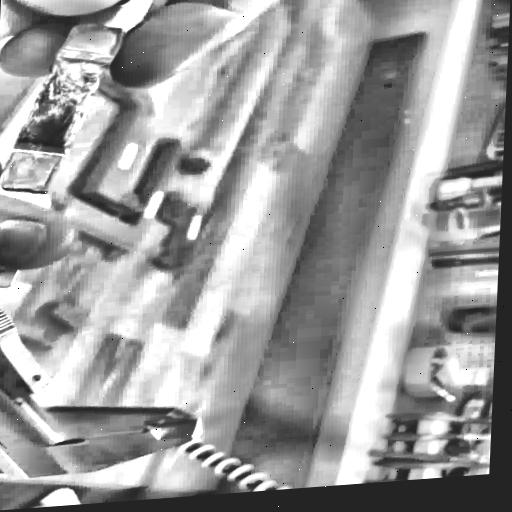busbar: (0, 0, 228, 306)
